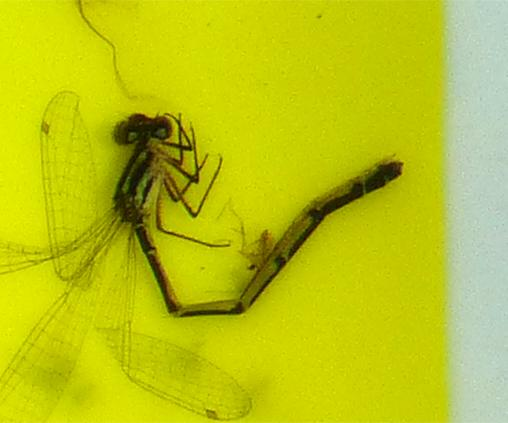Nematocera: (239, 227, 273, 272)
Odonata: (100, 100, 408, 323)
